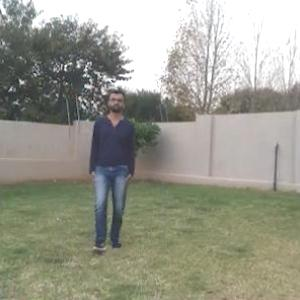follow: (90, 87, 131, 249)
